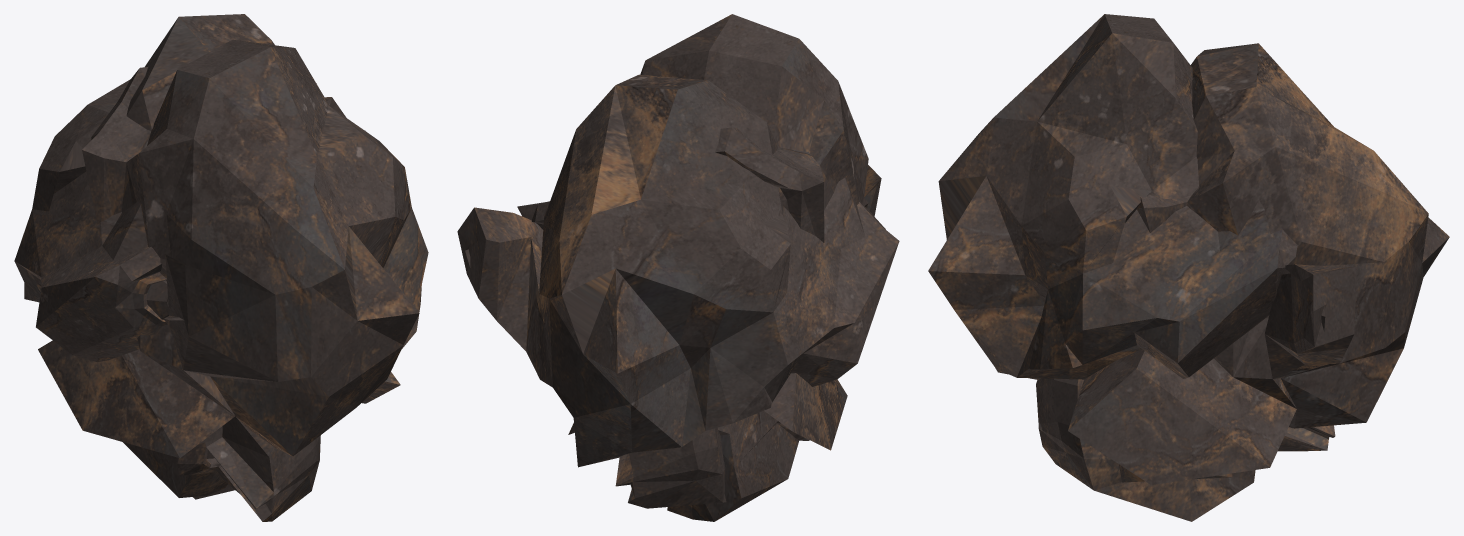
3 views of the same model, side by side, from view 1: azimuth 30°, elevation 25°; view 2: azimuth 150°, elevation 25°; view 3: azimuth 270°, elevation 25° (orthographic). The views are drawn at different scales.
Visible parts, largest first — view 1: Suzanne.001, Suzanne; view 2: Suzanne, Suzanne.001; view 3: Suzanne, Suzanne.001.
Part boxes in pixels (box(x1,y1,x2,y2)): Suzanne.001: box(38, 39, 428, 499); Suzanne: box(14, 14, 400, 521); Suzanne: box(457, 74, 899, 521); Suzanne.001: box(517, 14, 881, 508); Suzanne: box(1036, 43, 1449, 521); Suzanne.001: box(928, 14, 1335, 482).
Bounding box in the file's own units: 2.46 × 3.14 × 3.1.
